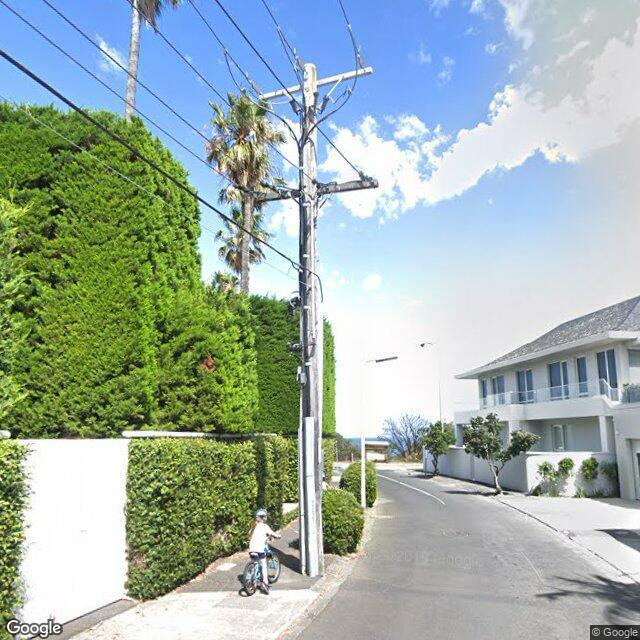HV-transmission: (222, 24, 374, 100)
crossarm: (252, 170, 380, 203), (258, 67, 373, 101)
steel-pole: (361, 363, 366, 509), (437, 347, 444, 432)
streetlight: (365, 356, 399, 365), (420, 342, 438, 348)
timber-pole: (294, 62, 326, 576)
